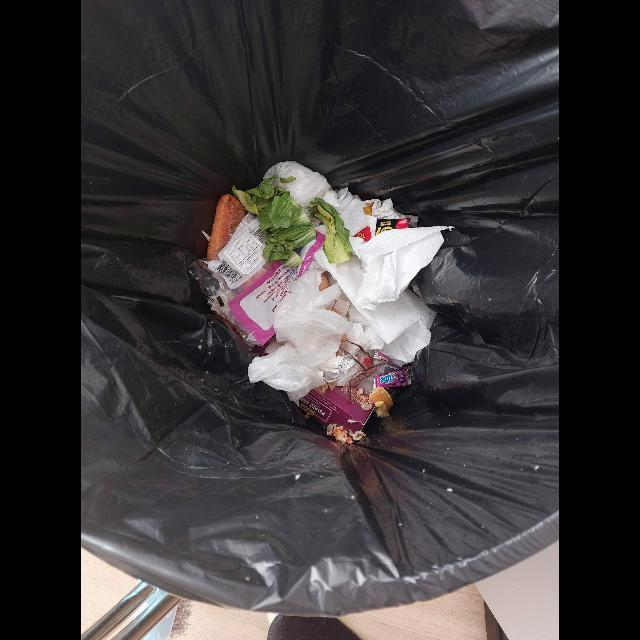cardboard: (299, 386, 375, 434)
food_wrapper: (187, 213, 326, 347), (373, 350, 414, 388)
left_over_food: (206, 194, 248, 261)
paper: (314, 227, 446, 363), (323, 187, 418, 238)
plastic_bag: (248, 262, 354, 402), (263, 161, 331, 209)
